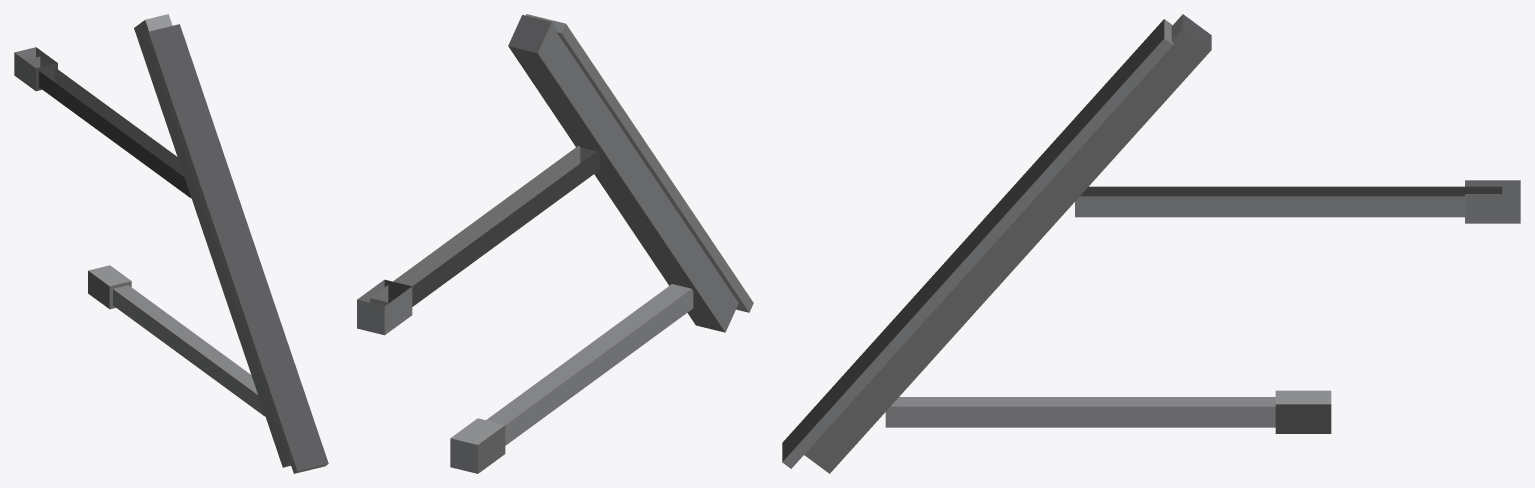
3 renders of one model, left to right at view 1: azimuth 30°, elevation 25°; view 2: azimuth 150°, elevation 25°; view 3: azimuth 270°, elevation 25°, orthographic. The views are drawn at different scales.
Bounding box in the file's own units: 0.1 × 1.06 × 1.59.
